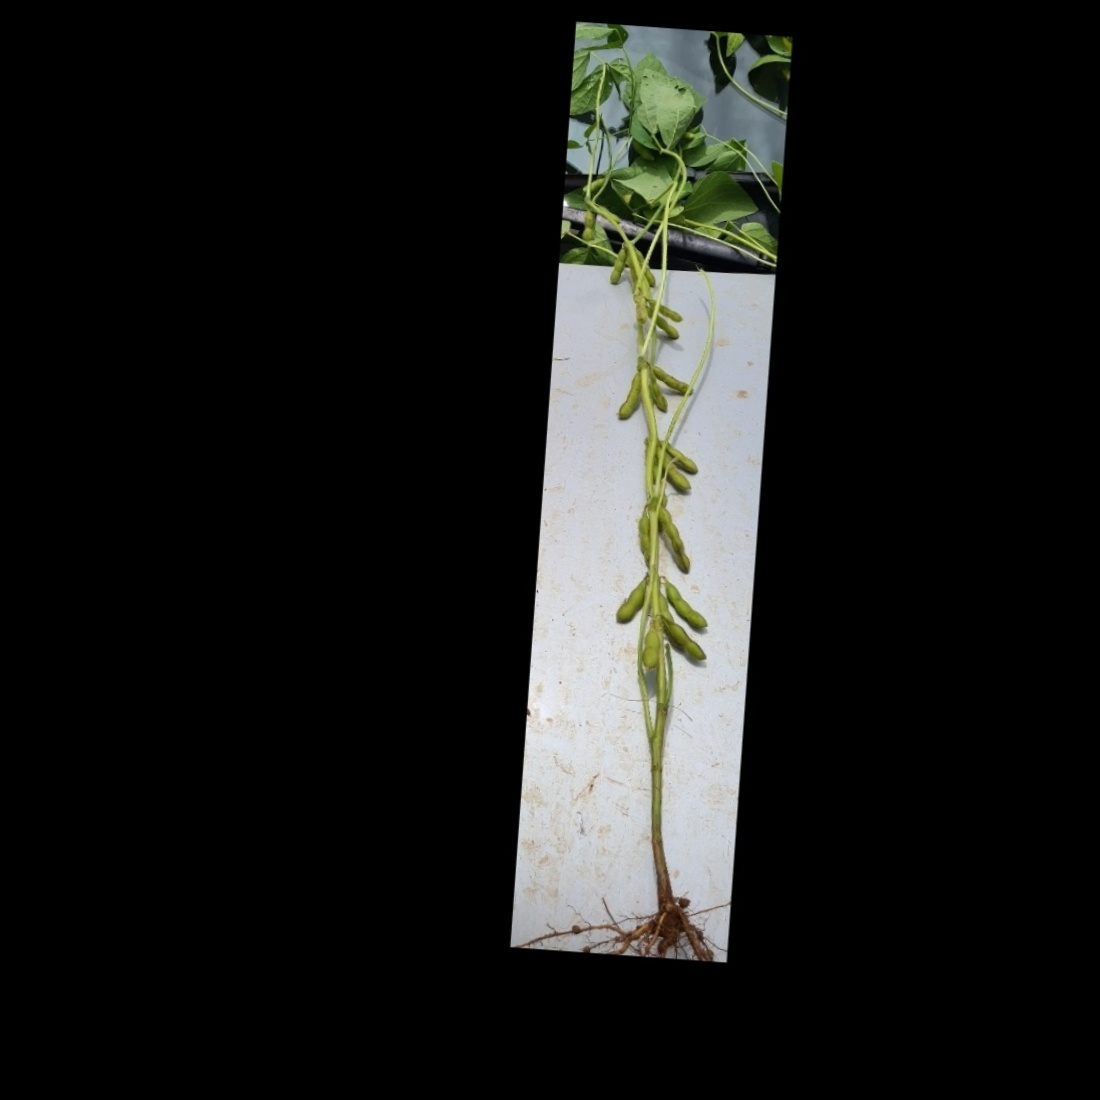pod: (654, 505, 698, 573), (662, 576, 715, 631), (664, 618, 712, 663), (612, 573, 651, 627), (617, 370, 644, 421), (643, 308, 683, 341), (606, 242, 631, 289), (640, 624, 662, 675), (648, 293, 685, 322), (646, 375, 672, 415), (581, 207, 602, 247), (630, 139, 658, 162)
soy: (536, 75, 772, 934)
